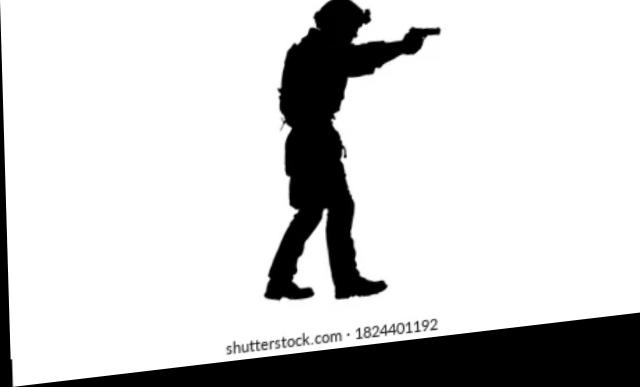other: (268, 0, 403, 321)
